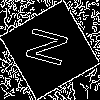N: (25, 25, 78, 72)
